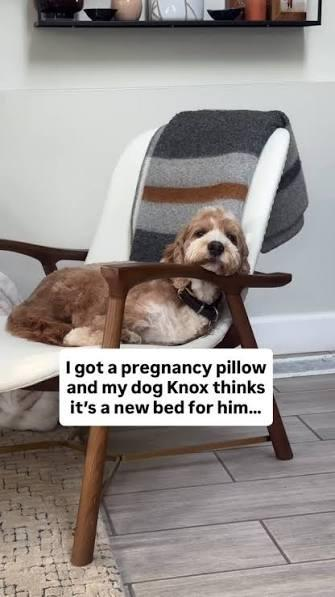adult_dog: (7, 206, 251, 346)
